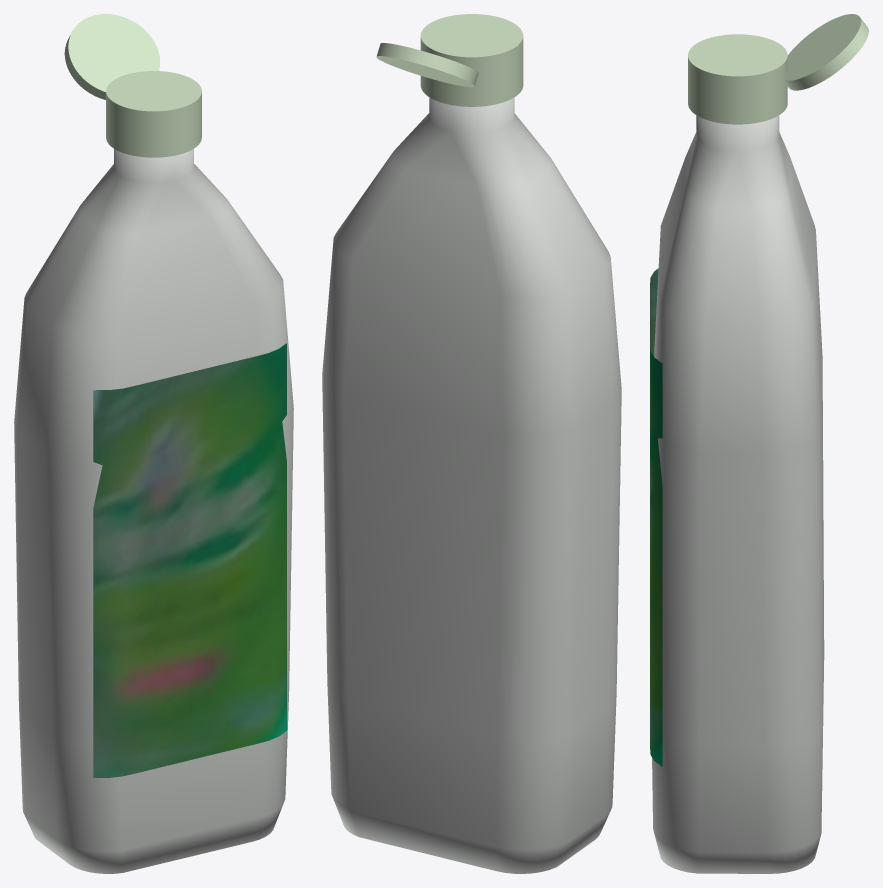
The model's file is sink_faucet__sink_green_soap_bottle.glb.
The picture shows the model from 3 angles, left to right: view 1: azimuth 30°, elevation 25°; view 2: azimuth 150°, elevation 25°; view 3: azimuth 270°, elevation 25°; orthographic projection. The views are drawn at different scales.
Parts seen in each view (by area): view 1: bottle, cap; view 2: bottle, cap; view 3: bottle, cap.
Boxes of the visible parts, x1=… form: bottle: x1=14, y1=71, x2=293, y2=873; cap: x1=64, y1=14, x2=159, y2=99; bottle: x1=322, y1=14, x2=621, y2=873; cap: x1=376, y1=43, x2=478, y2=87; bottle: x1=650, y1=34, x2=824, y2=873; cap: x1=783, y1=14, x2=868, y2=90.
Bounding box in the file's own units: 0.087 × 0.2662 × 0.0658.
4 materials, 1 textured.
